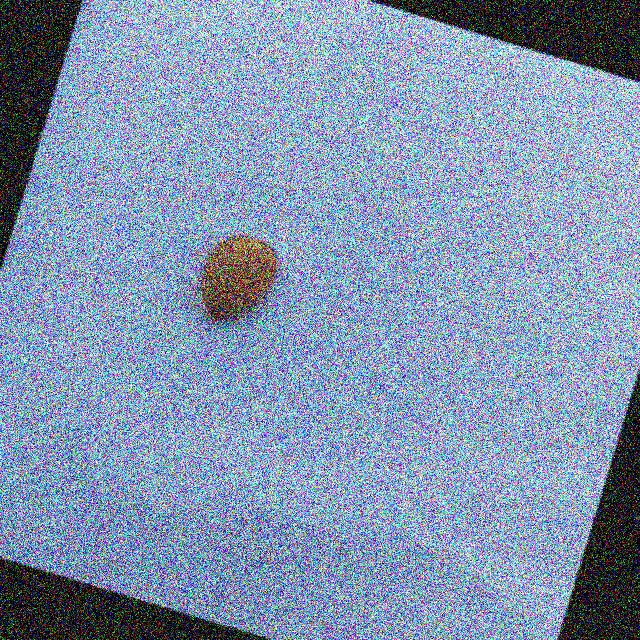grade2: (186, 222, 291, 337)
